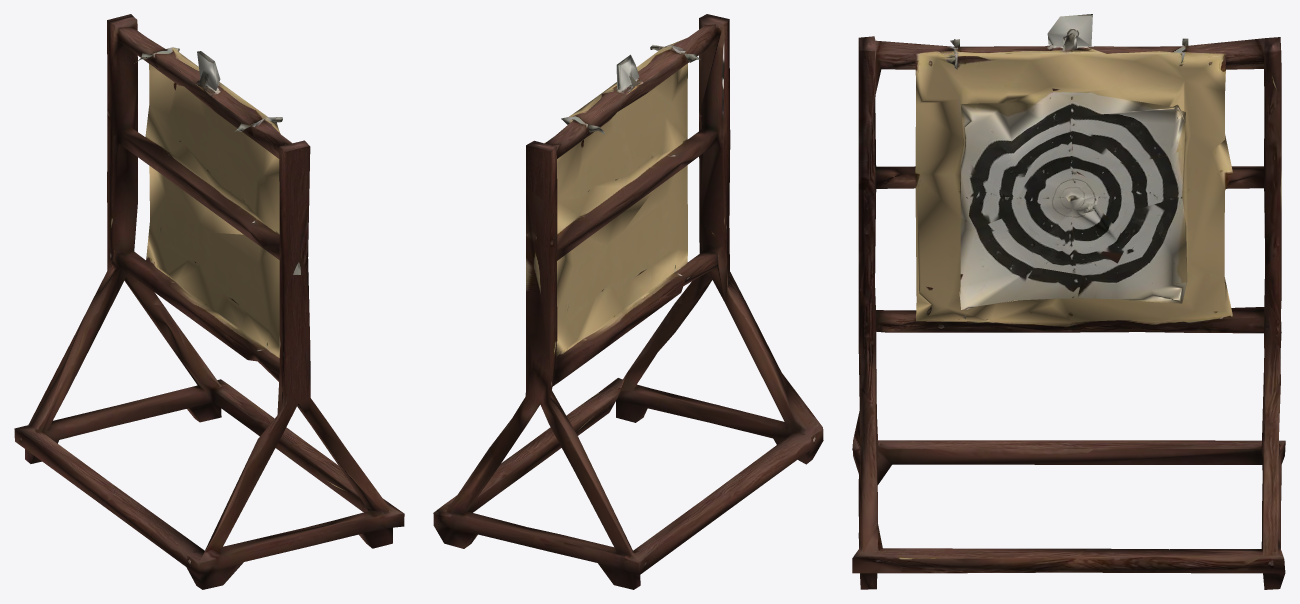
Rendered from target.glb.
The picture shows the model from 3 angles, left to right: view 1: azimuth 30°, elevation 25°; view 2: azimuth 150°, elevation 25°; view 3: azimuth 270°, elevation 25°; orthographic projection. The views are drawn at different scales.
Parts seen in each view (by area): view 1: tripo_node_158b66cb-7d03-419a-8354-3fe49d35ab8d; view 2: tripo_node_158b66cb-7d03-419a-8354-3fe49d35ab8d; view 3: tripo_node_158b66cb-7d03-419a-8354-3fe49d35ab8d.
Part boxes in pixels (box(x1,y1,x2,y2)): tripo_node_158b66cb-7d03-419a-8354-3fe49d35ab8d: box(14, 14, 404, 589); tripo_node_158b66cb-7d03-419a-8354-3fe49d35ab8d: box(433, 14, 823, 589); tripo_node_158b66cb-7d03-419a-8354-3fe49d35ab8d: box(852, 14, 1285, 589).
Size of the model in its own units: 0.4864 by 0.9996 by 0.7535.
Materials: 1 (1 with a texture image).
